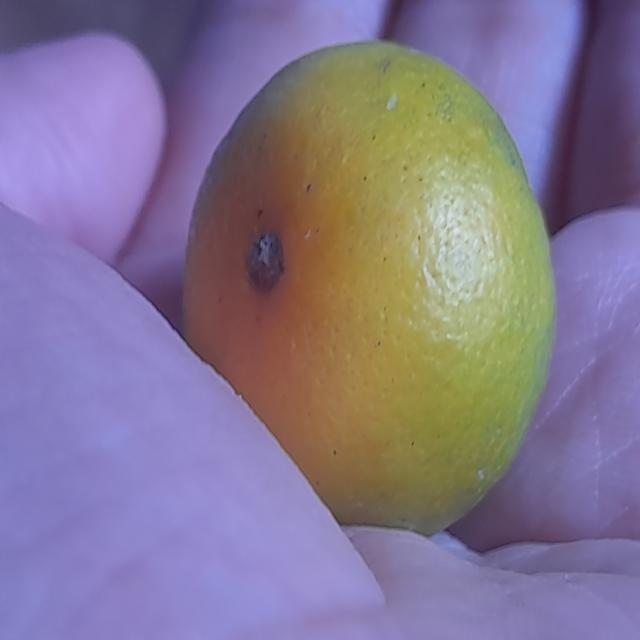greening: (174, 37, 552, 530)
